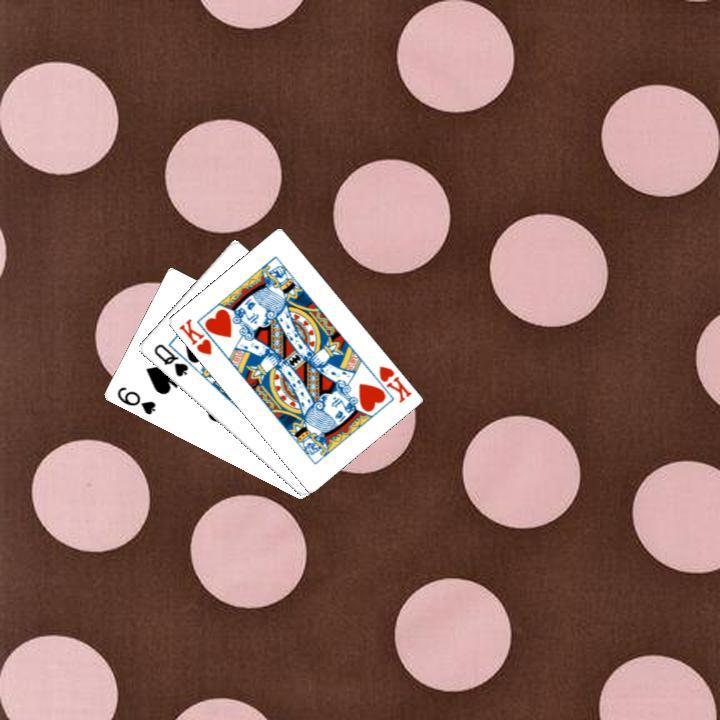6: (112, 382, 157, 417)
K: (174, 314, 214, 357), (374, 361, 413, 405)
Q: (149, 339, 190, 379)
